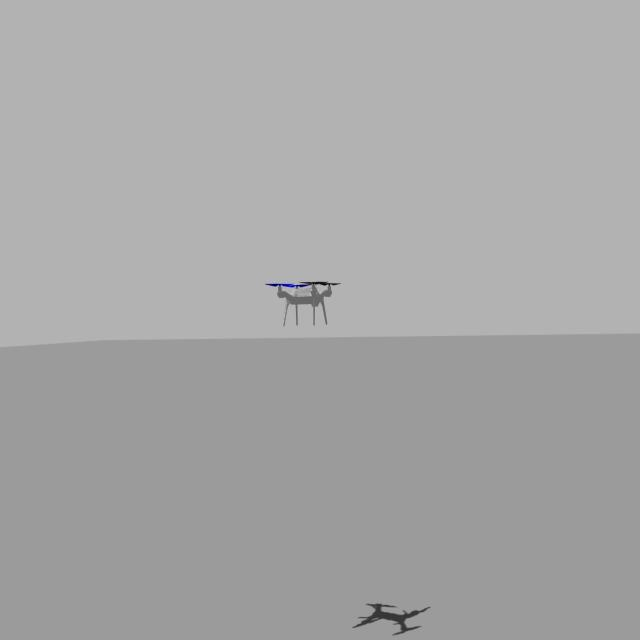Drone: (264, 274, 343, 332)
